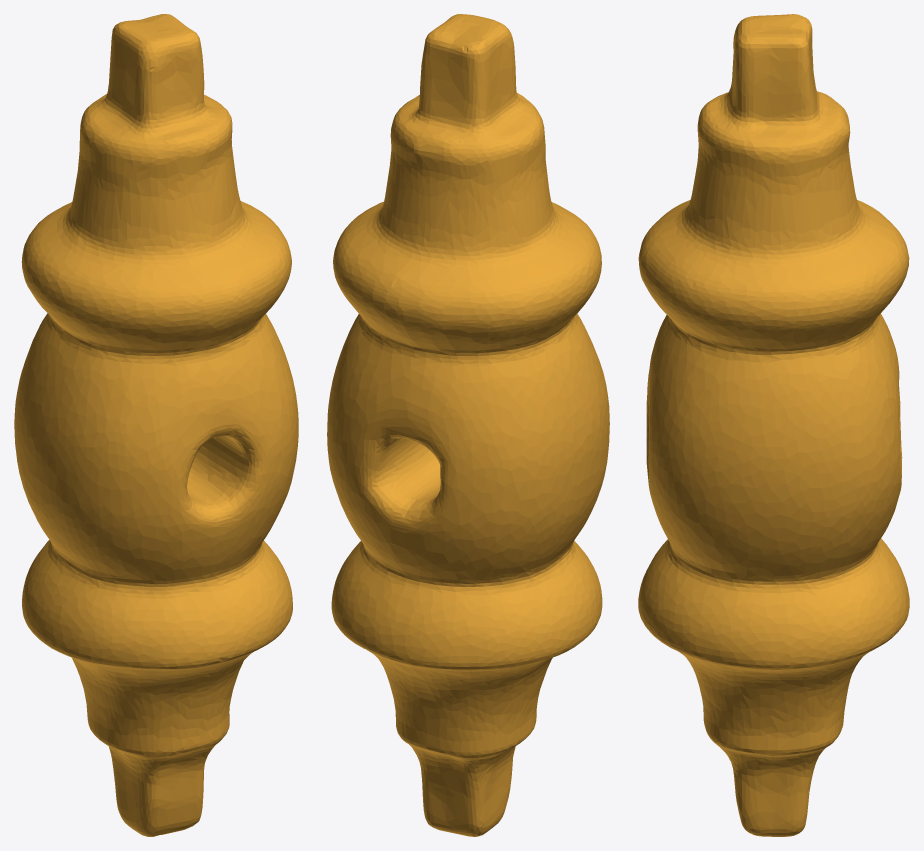
The picture shows the model from 3 angles, left to right: view 1: azimuth 30°, elevation 25°; view 2: azimuth 150°, elevation 25°; view 3: azimuth 270°, elevation 25°; orthographic projection.
Parts seen in each view (by area): view 1: tmp_efn3sko.ply; view 2: tmp_efn3sko.ply; view 3: tmp_efn3sko.ply.
Part boxes in pixels (left/top/right/bottom): tmp_efn3sko.ply: left=14, top=14, right=298, bottom=836; tmp_efn3sko.ply: left=327, top=14, right=609, bottom=836; tmp_efn3sko.ply: left=638, top=14, right=909, bottom=836.
Bounding box in the file's own units: 0.6129 × 1.96 × 0.6019.
